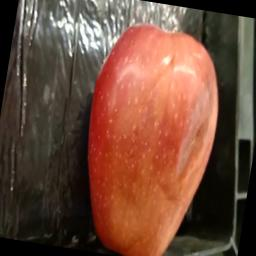Apple Overripe: (64, 13, 236, 256)
